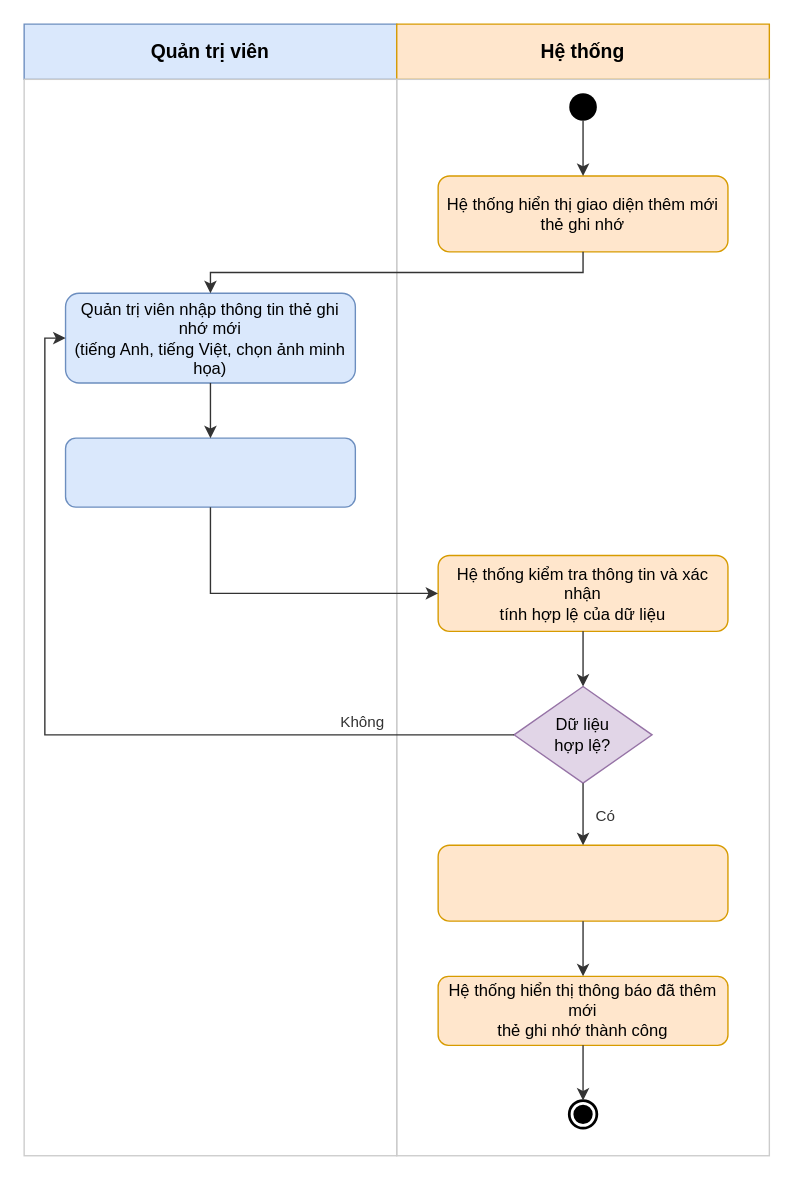
The diagram is 794 pixels wide and 1180 high, and some of its shapes have lost their labels. The centre of each missing label's shape, as x and y in pixels:
"Hệ thống lưu tệp ảnh minh họa cục bộ và lưu metadata vào CSDL" goes at [582,882].
"Quản trị viên nhấn nút Lưu" goes at [209,472].
